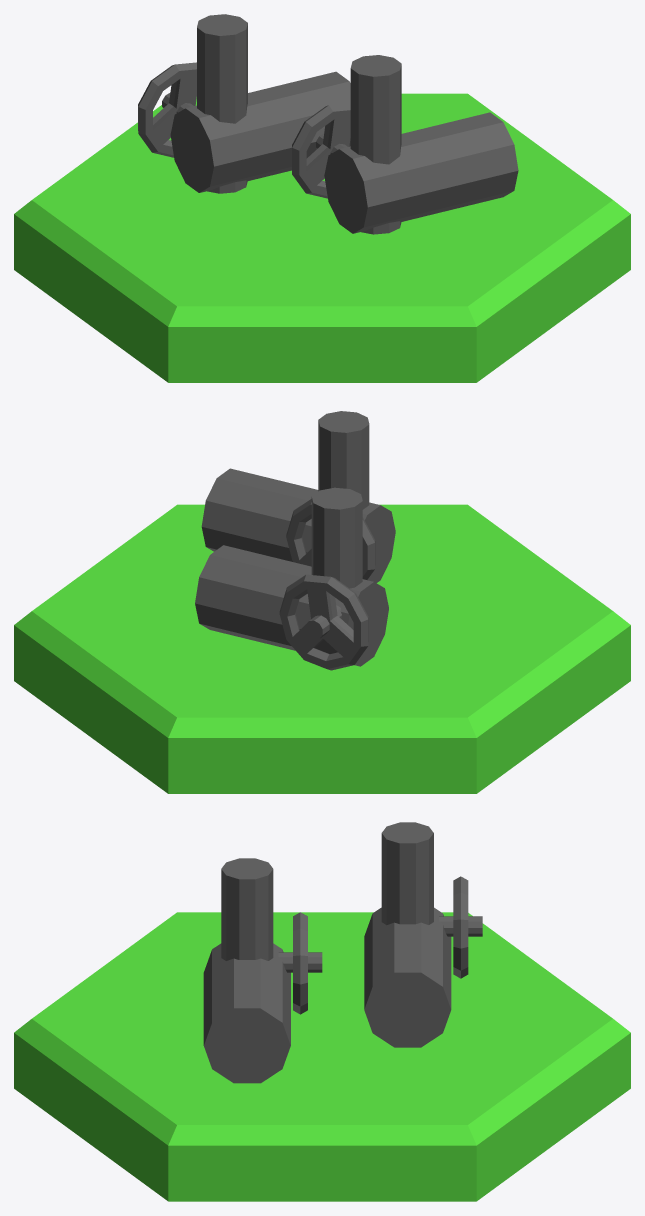
File: tile_energy_steam.fbx
3 views of the same model, one above another, from view 1: azimuth 30°, elevation 25°; view 2: azimuth 150°, elevation 25°; view 3: azimuth 270°, elevation 25° (orthographic).
Parts seen in each view (by area): view 1: Pad, Body, Body.001, Wheel, Wheel.001; view 2: Pad, Body.001, Body, Wheel.001, Wheel; view 3: Pad, Body, Body.001, Wheel.001, Wheel.
Boxes of the visible parts, <box> form: Pad: <box>14,93,630,382</box>; Body: <box>324,55,518,234</box>; Body.001: <box>170,14,350,193</box>; Wheel: <box>292,103,350,198</box>; Wheel.001: <box>138,62,196,157</box>; Pad: <box>14,504,630,793</box>; Body.001: <box>195,487,388,666</box>; Body: <box>201,411,395,582</box>; Wheel.001: <box>279,574,368,670</box>; Wheel: <box>286,499,375,579</box>; Pad: <box>14,912,630,1201</box>; Body: <box>203,858,290,1083</box>; Body.001: <box>364,822,451,1047</box>; Wheel.001: <box>439,876,482,978</box>; Wheel: <box>278,912,322,1014</box>.
Size of the model in its own units: 346 by 163 by 400.
